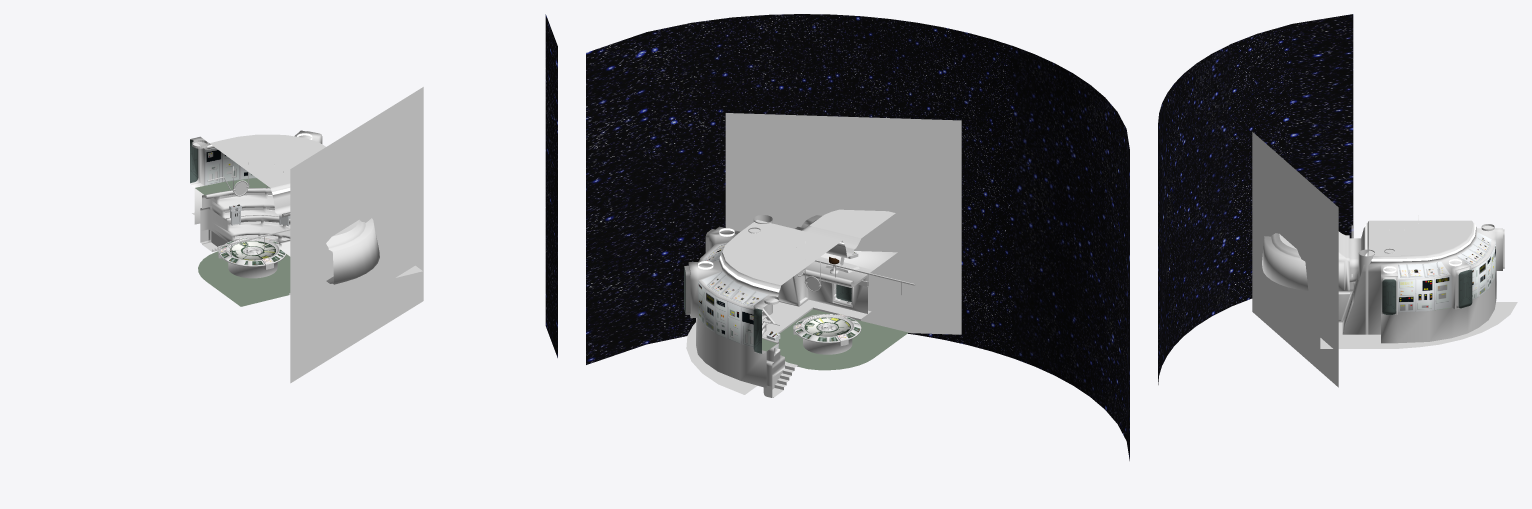
The model's file is BriefingRoom1tamtam2.glb.
The picture shows the model from 3 angles, left to right: view 1: azimuth 30°, elevation 25°; view 2: azimuth 150°, elevation 25°; view 3: azimuth 270°, elevation 25°; orthographic projection. The views are drawn at different scales.
Visible parts, largest first — view 1: Plane, MainStructure, Plane.001, SeatStructure, Roof, CentralFloor, HologramProjector; view 2: Plane.001, Plane, MainStructure, Roof, CentralFloor, LowerFloor, HologramProjector, CrewRoof, SeatStructure; view 3: Plane.001, MainStructure, Plane, Roof, LowerFloor, Pillar.
Part boxes in pixels (<box>): Plane: <box>290,87,423,383</box>; MainStructure: <box>190,130,379,284</box>; Plane.001: <box>545,14,557,357</box>; SeatStructure: <box>200,188,290,251</box>; Roof: <box>210,134,325,187</box>; CentralFloor: <box>198,251,290,306</box>; HologramProjector: <box>218,237,285,278</box>; Plane.001: <box>586,14,1129,460</box>; Plane: <box>725,113,961,334</box>; MainStructure: <box>684,213,897,387</box>; Roof: <box>722,220,841,285</box>; CentralFloor: <box>778,309,908,370</box>; LowerFloor: <box>686,300,871,394</box>; HologramProjector: <box>793,314,861,354</box>; CrewRoof: <box>810,209,895,238</box>; SeatStructure: <box>762,321,794,397</box>; Plane.001: <box>1158,14,1353,384</box>; MainStructure: <box>1262,221,1504,343</box>; Plane: <box>1252,132,1338,387</box>; Roof: <box>1369,220,1471,255</box>; LowerFloor: <box>1320,302,1517,348</box>; Pillar: <box>1358,249,1374,334</box>.
Size of the model in its own units: 51.71 by 29.02 by 36.02.
17 materials, 7 textured.
